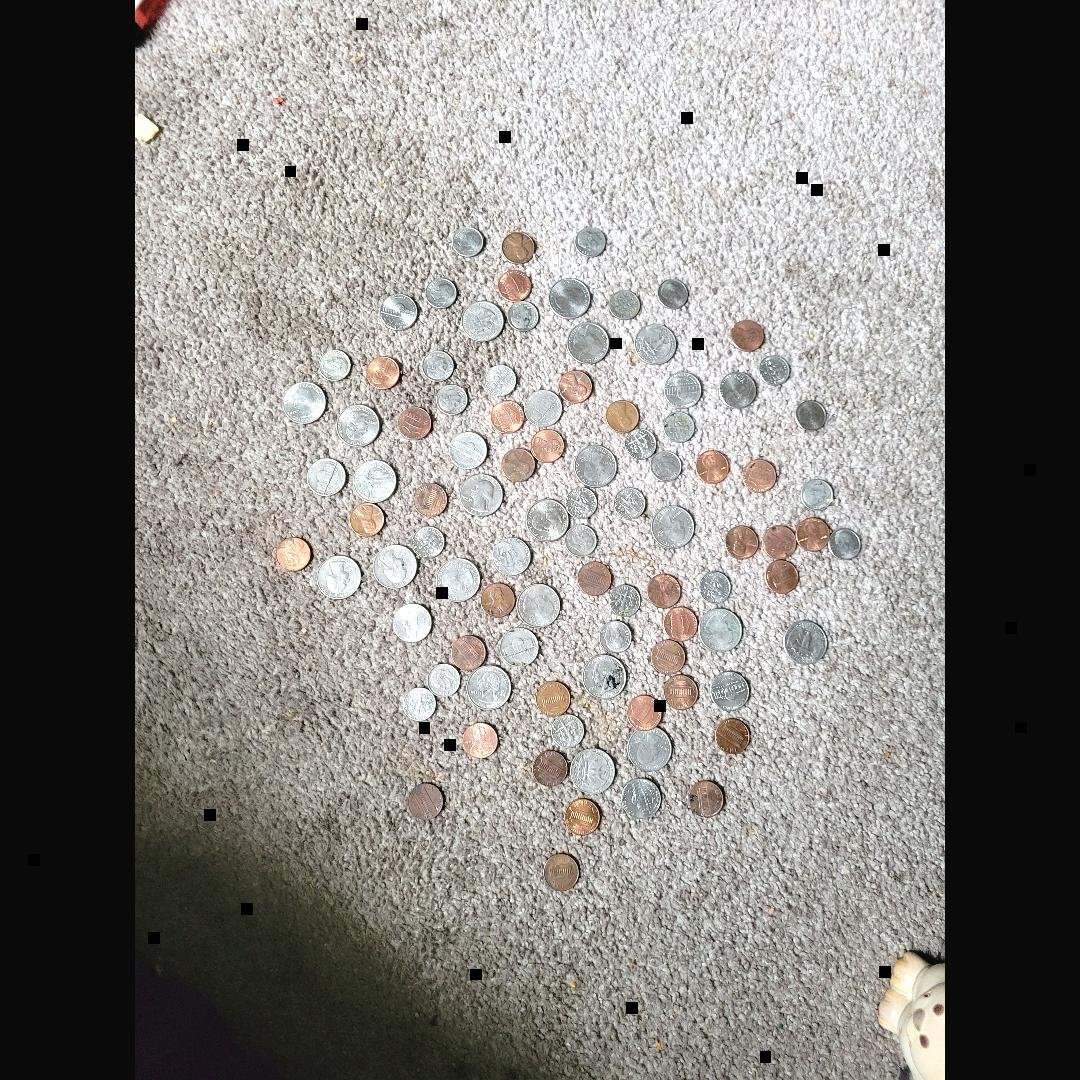Dime: (656, 276, 692, 312), (483, 363, 519, 397), (575, 224, 608, 260), (422, 349, 456, 383), (319, 347, 353, 381), (550, 715, 584, 749), (412, 524, 446, 558), (830, 528, 863, 562), (402, 686, 436, 719), (798, 398, 830, 432), (614, 486, 646, 520), (800, 478, 832, 512), (650, 452, 684, 484), (700, 570, 732, 603), (609, 584, 642, 616), (662, 412, 695, 444), (566, 488, 598, 520), (428, 664, 460, 696), (426, 278, 458, 310), (565, 526, 597, 556), (598, 622, 630, 652), (759, 356, 791, 386), (507, 301, 539, 331), (610, 291, 642, 321), (451, 227, 483, 257), (625, 429, 658, 458), (438, 384, 468, 415)
Nickel: (709, 670, 753, 712), (304, 456, 348, 498), (378, 291, 420, 332), (621, 779, 661, 819), (391, 604, 433, 642), (526, 390, 564, 428), (492, 538, 530, 576), (449, 432, 487, 469), (719, 370, 757, 406), (500, 630, 538, 666), (664, 372, 702, 408)
Penny: (694, 448, 730, 486), (664, 675, 700, 711), (724, 524, 760, 560), (626, 693, 662, 729), (412, 482, 448, 518), (490, 398, 526, 434), (364, 356, 400, 392), (274, 536, 310, 572), (349, 502, 385, 538), (563, 800, 599, 835), (763, 558, 798, 594), (647, 573, 682, 609), (534, 682, 570, 716), (481, 584, 517, 618), (762, 525, 796, 559), (650, 639, 684, 673), (578, 561, 612, 595), (530, 429, 564, 463), (397, 407, 431, 441), (463, 723, 497, 757), (497, 268, 531, 302), (742, 459, 778, 491), (408, 785, 442, 818), (451, 636, 485, 669), (732, 317, 766, 350), (499, 231, 534, 263), (544, 856, 578, 888), (533, 752, 567, 784), (606, 400, 640, 432), (558, 369, 592, 401), (502, 449, 536, 481), (716, 719, 748, 752), (690, 783, 722, 815), (794, 518, 826, 550), (664, 608, 696, 640)
Quarter: (547, 276, 593, 322), (573, 444, 619, 490), (467, 664, 513, 710), (516, 582, 562, 628), (371, 544, 417, 590), (280, 381, 326, 426), (565, 322, 610, 366), (572, 749, 617, 793), (334, 402, 379, 446), (435, 559, 480, 603), (317, 557, 363, 600), (581, 654, 626, 697), (629, 730, 675, 772), (650, 506, 696, 548), (698, 609, 742, 652), (352, 460, 397, 502), (458, 475, 503, 517), (460, 299, 504, 341), (634, 322, 678, 364), (784, 622, 830, 662), (526, 499, 568, 542)
